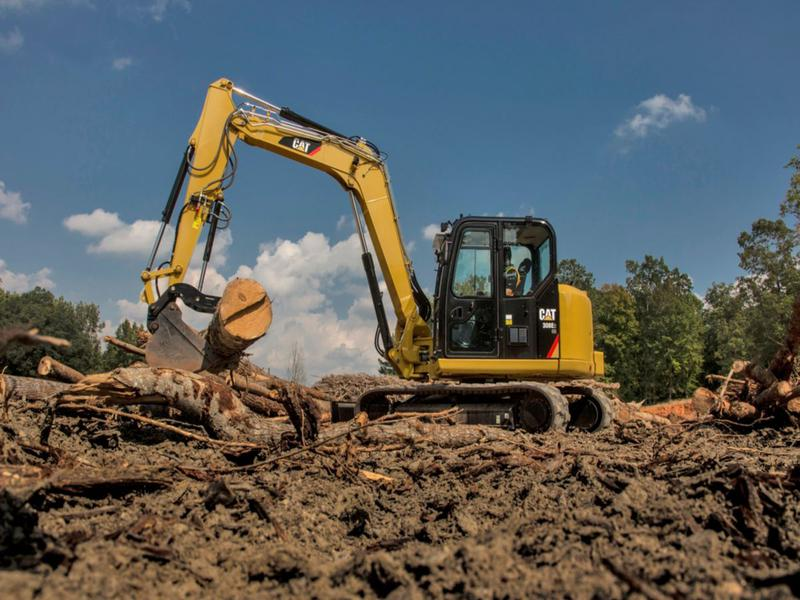shovel: (142, 69, 622, 441)
